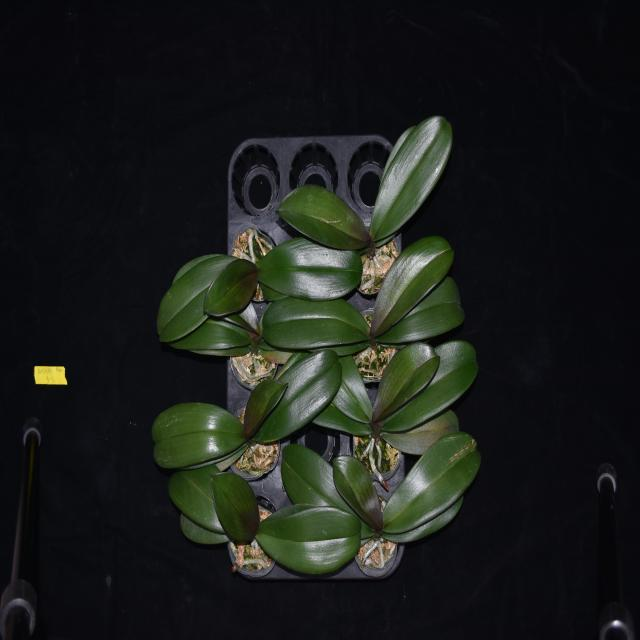leaf: (385, 431, 481, 550), (371, 114, 456, 247), (383, 340, 480, 436), (370, 234, 457, 337), (255, 344, 342, 443), (279, 442, 374, 532), (257, 502, 363, 578), (257, 235, 364, 298), (374, 326, 440, 426), (147, 402, 248, 467), (154, 258, 236, 338), (275, 184, 370, 253), (260, 293, 371, 352), (378, 275, 466, 345), (332, 452, 385, 536), (377, 402, 459, 456), (166, 467, 225, 535), (209, 469, 259, 543), (203, 256, 260, 318), (331, 351, 373, 424), (246, 370, 290, 439), (170, 319, 256, 351), (309, 397, 370, 439), (181, 512, 229, 549), (519, 459, 522, 462)
